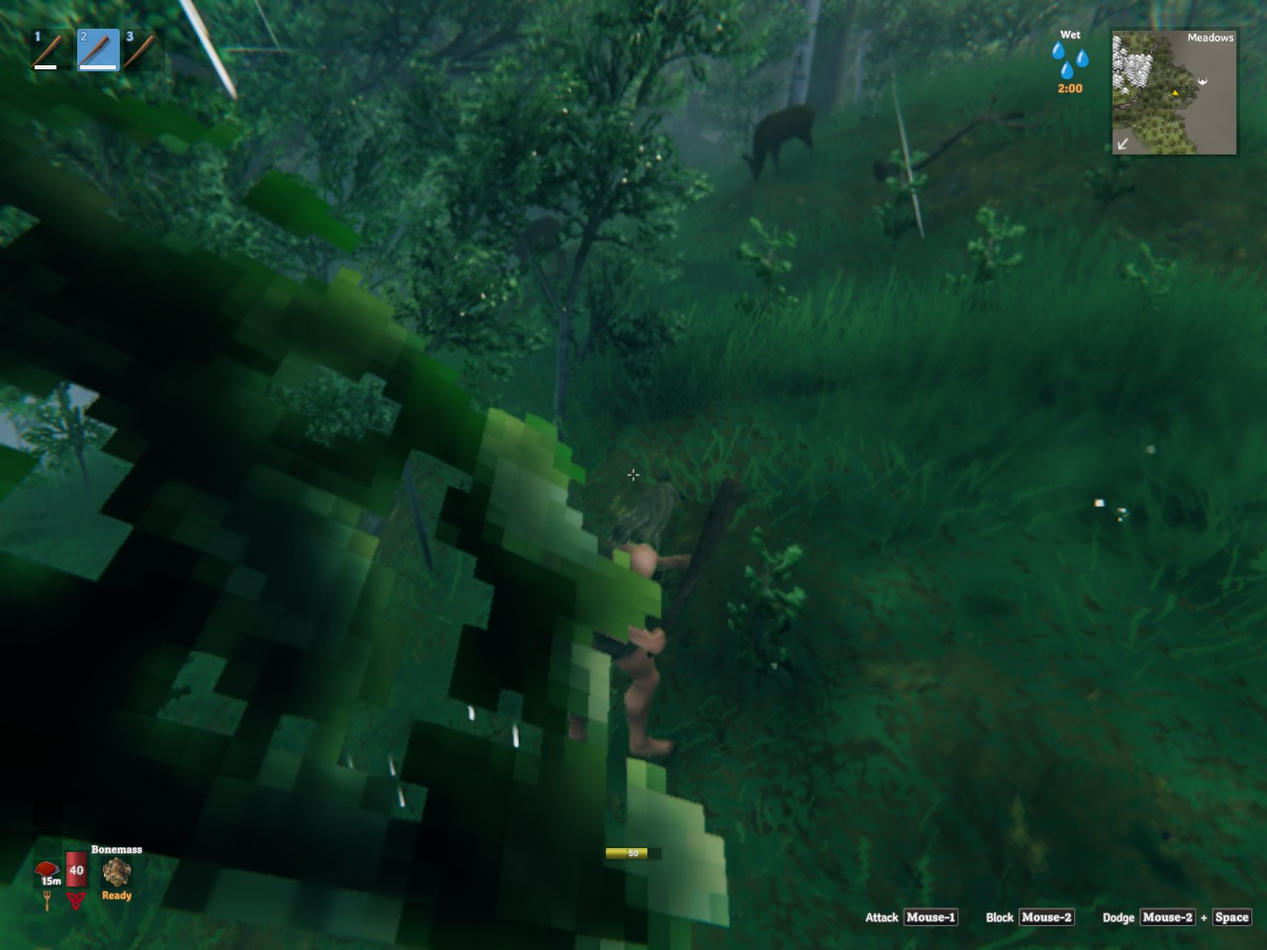Branch: (913, 111, 1027, 170), (873, 159, 904, 180)
Deer: (742, 105, 815, 180)
Food Indicator: (36, 797, 63, 891)
Health Bar: (63, 820, 90, 891)
Hotbar: (24, 21, 195, 80)
Stamina Bar: (600, 840, 668, 866)
Status Indicator: (1024, 22, 1111, 100)
